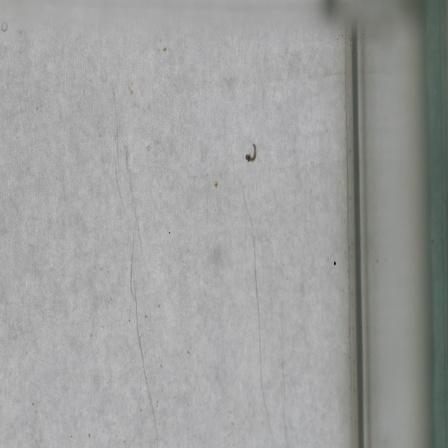Jentik-Nyamuk: (242, 139, 261, 165)
